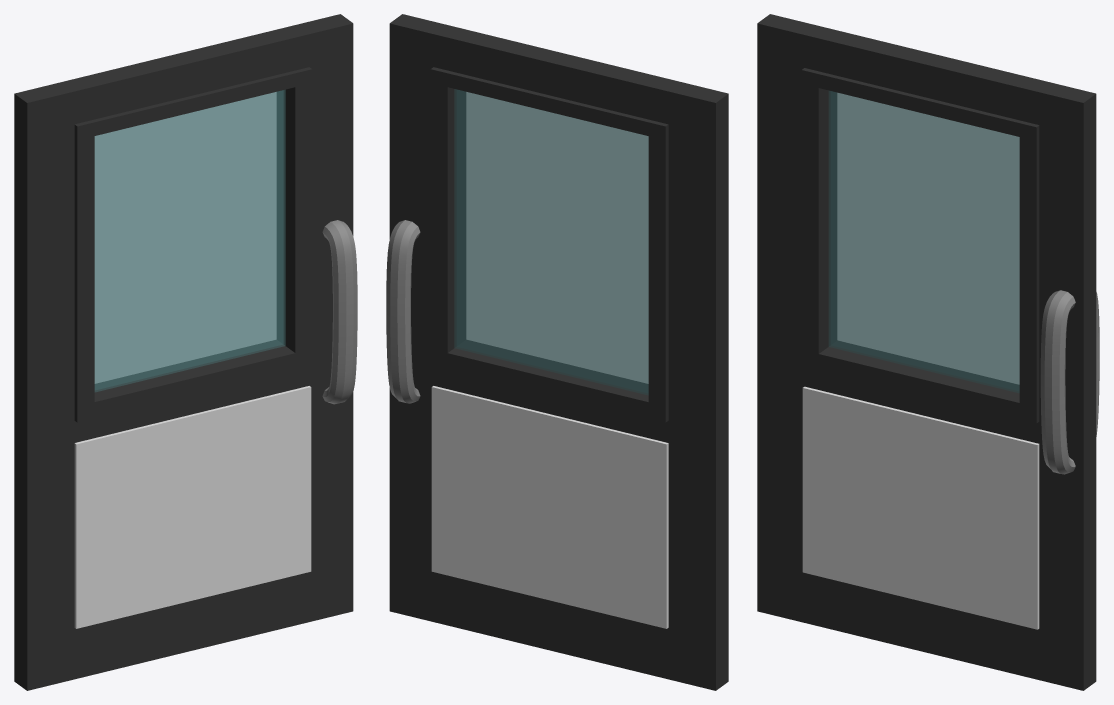
The model's file is Deur wide.fbx.
The picture shows the model from 3 angles, left to right: view 1: azimuth 30°, elevation 25°; view 2: azimuth 150°, elevation 25°; view 3: azimuth 330°, elevation 25°; orthographic projection.
Parts seen in each view (by area): view 1: pPlane17; view 2: pPlane17; view 3: pPlane17.
Boxes of the visible parts, x1,y1,x2,y2 form: pPlane17: (14,14,357,690); pPlane17: (386,14,728,690); pPlane17: (757,14,1099,690).
Size of the model in its own units: 8.65 by 14.9 by 2.01.
